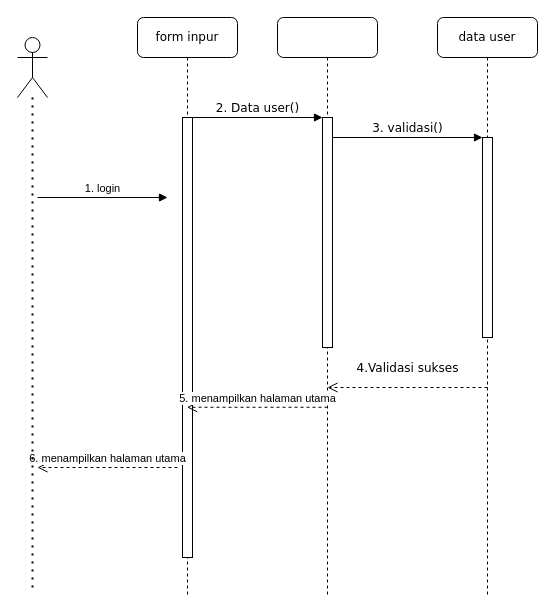
The diagram is 555 pixels wide and 615 high, and some of its shapes have lost their labels. The centre of each missing label's shape, as x and y in pixels:
"Actor" belongs at pixel 32 67.
"kontrol data" belongs at pixel 327 307.
